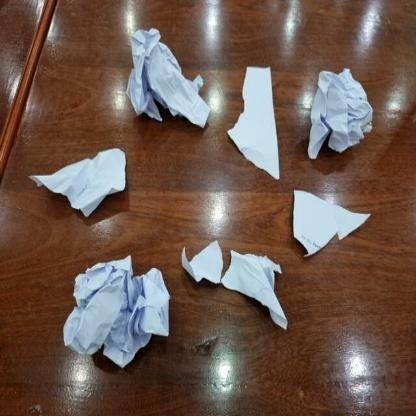trash: (64, 258, 168, 364), (180, 240, 291, 328), (127, 30, 210, 124), (32, 148, 126, 214), (226, 66, 280, 180), (308, 70, 372, 160), (294, 190, 372, 256)
